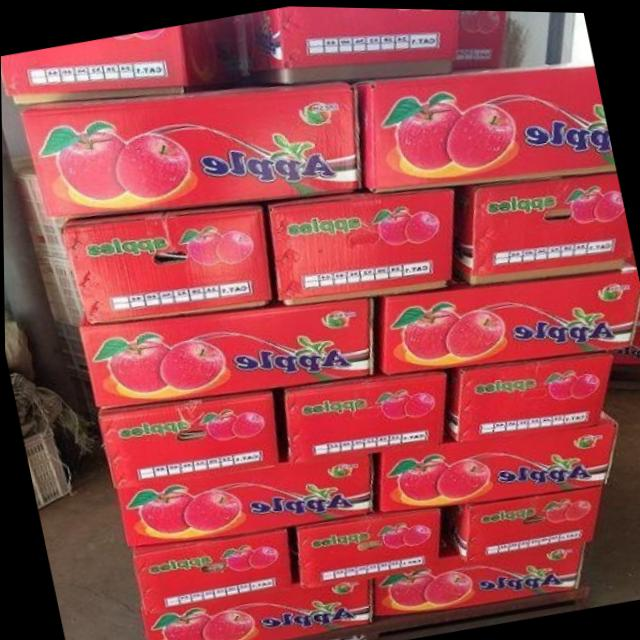box: (19, 76, 364, 219), (349, 63, 617, 192), (81, 297, 374, 411), (374, 253, 640, 374), (58, 202, 274, 324), (112, 451, 370, 545), (378, 410, 616, 510), (264, 188, 453, 305), (1, 18, 237, 104), (452, 172, 627, 284), (97, 390, 277, 487), (368, 538, 583, 619), (245, 5, 457, 82), (282, 368, 446, 461), (442, 348, 611, 438), (138, 575, 370, 640), (132, 526, 293, 610), (442, 484, 601, 558), (296, 506, 440, 587), (451, 8, 508, 68)
